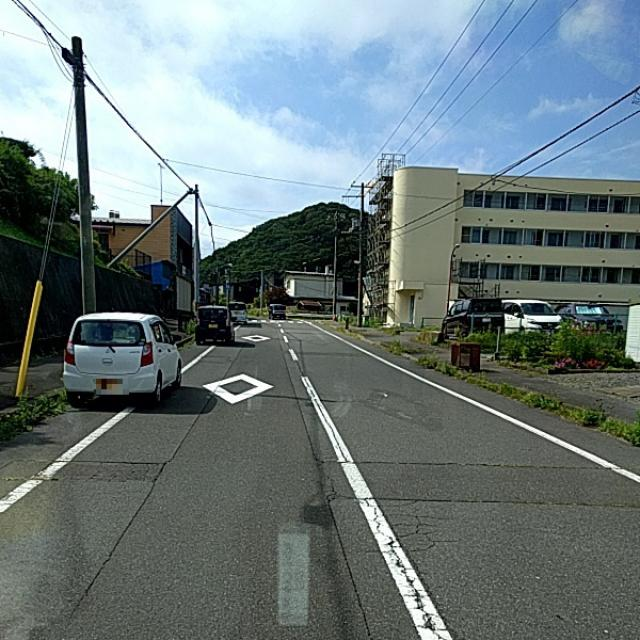pothole: (321, 474, 430, 580), (115, 436, 321, 474)
